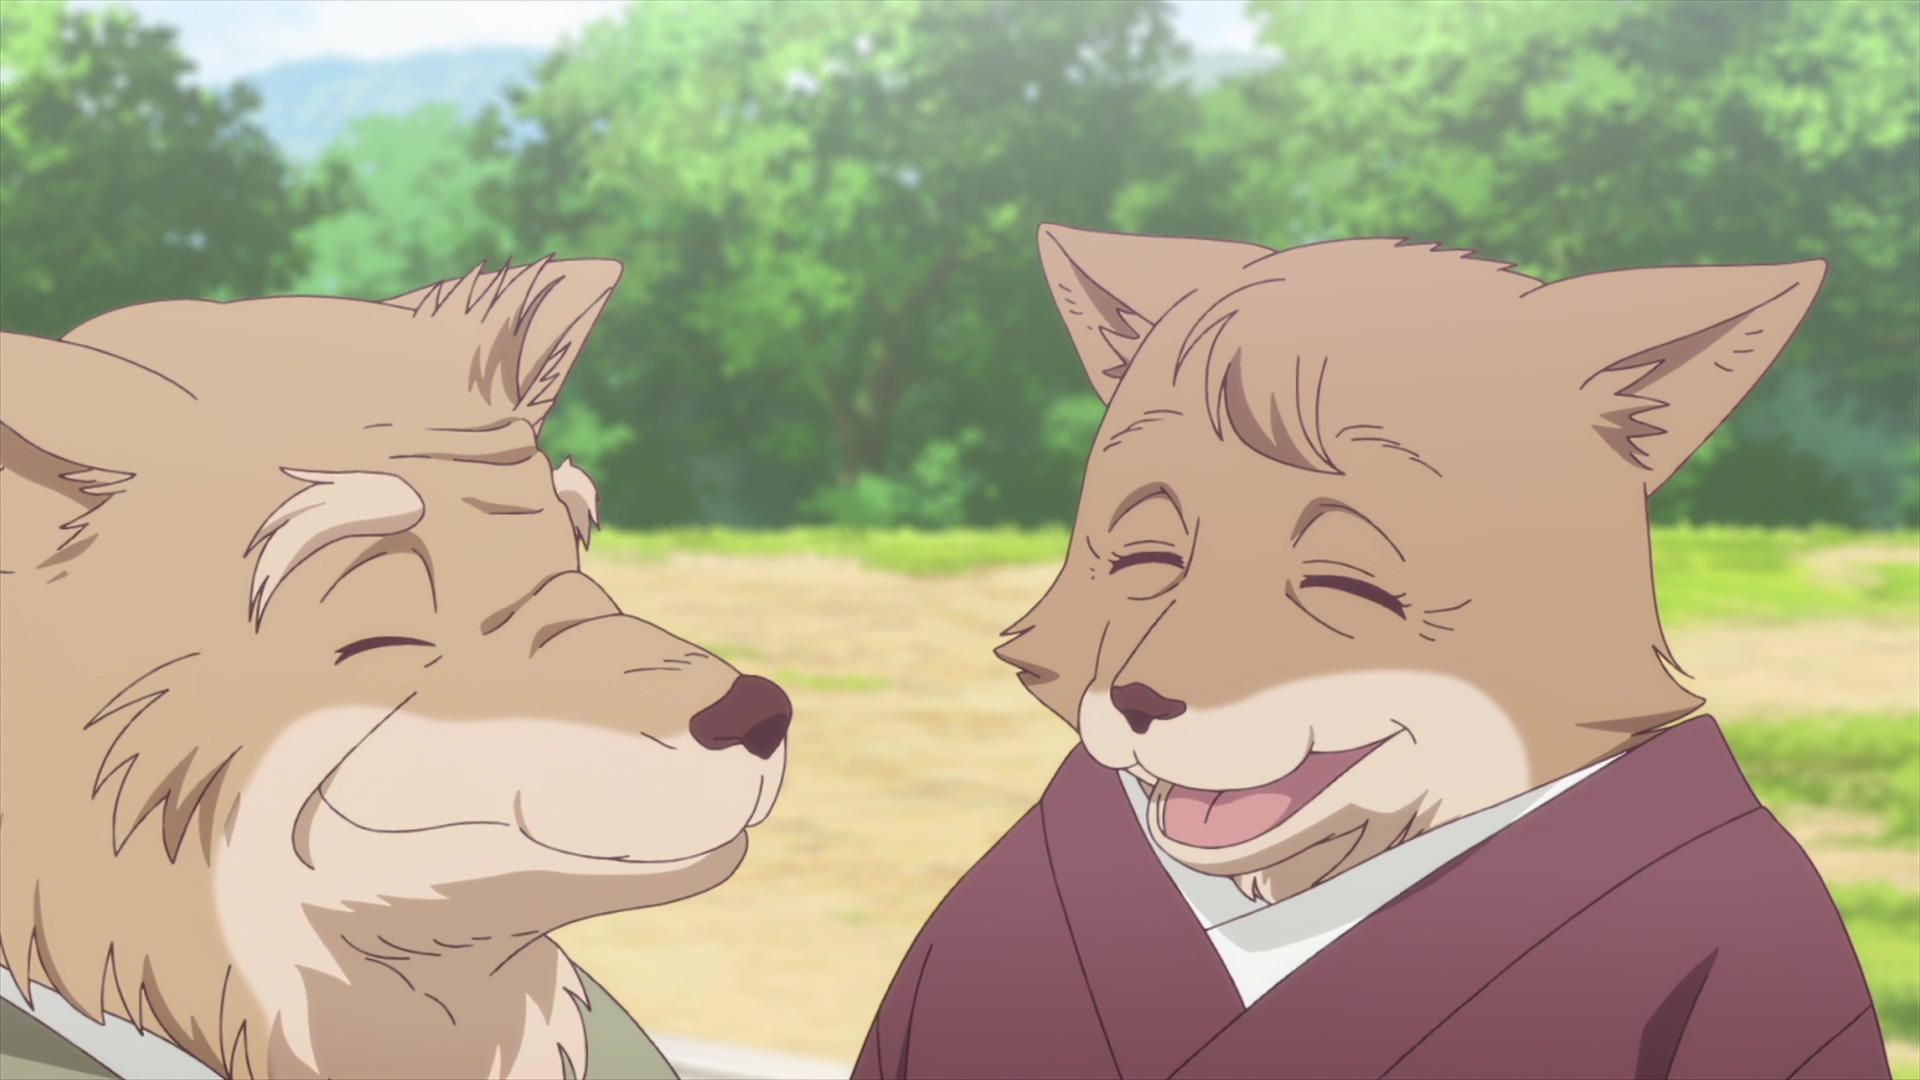其他: (851, 223, 1888, 1080), (1, 256, 793, 1080)
